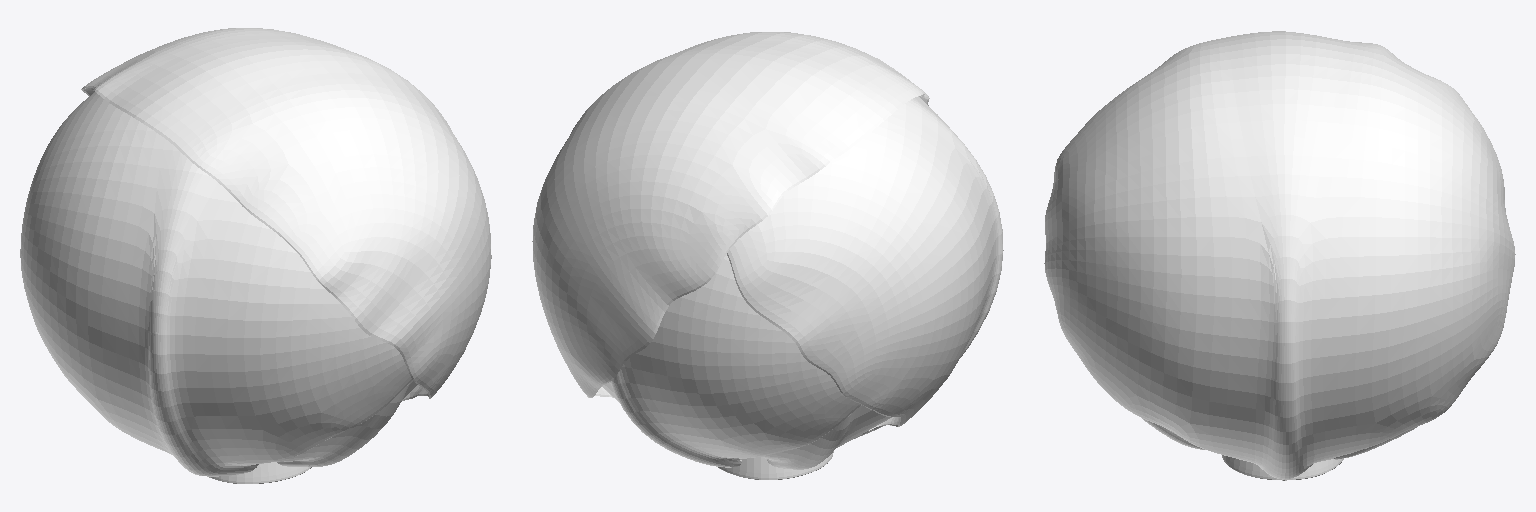
URDF robot description (textured):
<?xml version="1.0" ?>
<robot name="textured">
  <material name="color">
    <color rgba="1 1 1 1"/>
  </material>

  <link name="base_link">
    <contact>
      <lateral_friction value="1.0"/>
      <rolling_friction value="0.001"/>
      <spinning_friction value="0.001"/>
      <inertia_scaling value="1.0"/>
    </contact>
    <inertial>
      <origin rpy="0 0 0" xyz="0 0 0"/>
       <mass value="0.4"/>
       <inertia ixx="1" ixy="0" ixz="0" iyy="1" iyz="0" izz="1"/>
    </inertial>

    <visual>
      <origin rpy="0 0 0" xyz="0 0 0"/>
      <geometry>
        <mesh filename="12209_Vegetable_v1_L3.obj" scale="0.0041 0.0041 0.0041"/>
      </geometry>
      <material name="color"/>
    </visual>

    <collision>
      <origin rpy="0 0 0" xyz="0 0 0"/>
      <geometry>
        <mesh filename="12209_Vegetable_v1_L3.obj" scale="0.0041 0.0041 0.0041"/>
      </geometry>
    </collision>

  </link>
</robot>

--- Facts derived from the render (not from the file) ---
3 views of the same robot in one strip: view 1: azimuth 30°, elevation 25°; view 2: azimuth 150°, elevation 25°; view 3: azimuth 270°, elevation 25° (orthographic).
Robot: textured — 1 links, 0 joints (none); root link base_link; default pose: every joint at zero.
Links seen in each view (by area): view 1: base_link; view 2: base_link; view 3: base_link.
Boxes of the visible links, x1,y1,x2,y2 form: base_link: (20,28,491,483); base_link: (532,32,1003,479); base_link: (1044,31,1515,480).
Bounding box of the posed robot: 0.0794 × 0.0792 × 0.0737 m (x, y, z).
1 mesh visuals loaded from 1 distinct referenced files (1 OBJ).